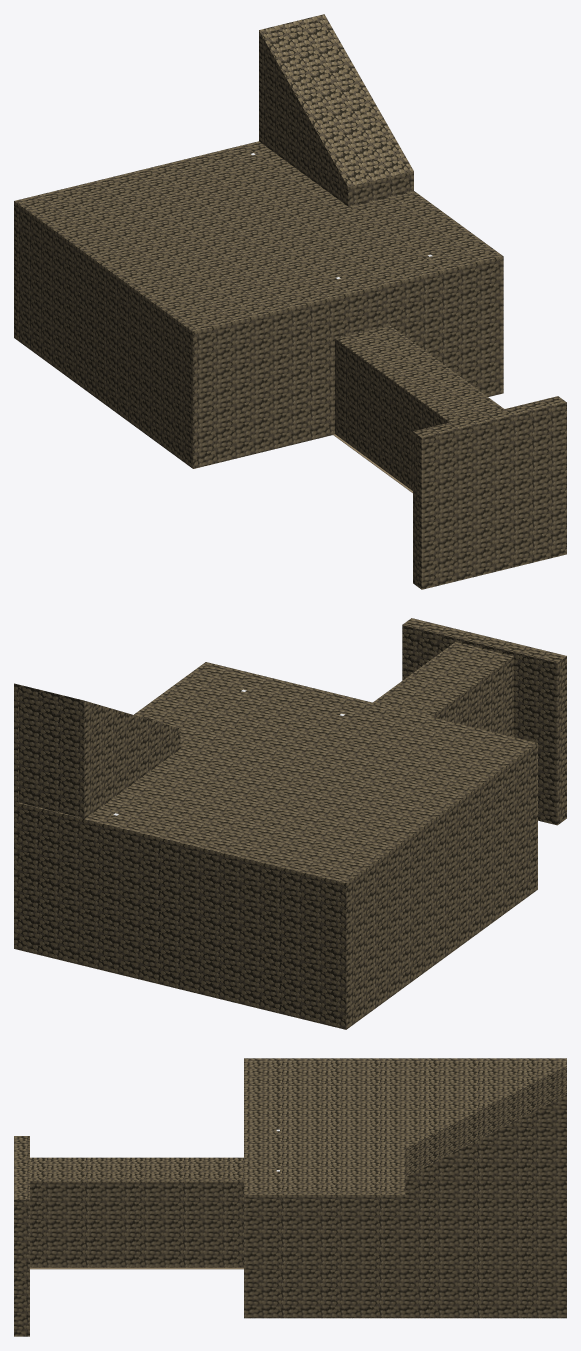
File: SceneCollisions.glb
The picture shows the model from 3 angles, top to bottom: view 1: azimuth 30°, elevation 25°; view 2: azimuth 150°, elevation 25°; view 3: azimuth 270°, elevation 25°; orthographic projection. The views are drawn at different scales.
Visible parts, largest first — view 1: Walls-col; view 2: Walls-col; view 3: Walls-col, Floor-col.
Boxes of the visible parts, x1,y1,x2,y2 form: Walls-col: (14, 14, 566, 589); Walls-col: (14, 618, 566, 1029); Walls-col: (14, 1058, 566, 1336); Floor-col: (30, 1267, 565, 1318).
Size of the model in its own units: 8.7 by 8.03 by 14.9.
12 materials, 8 textured.
